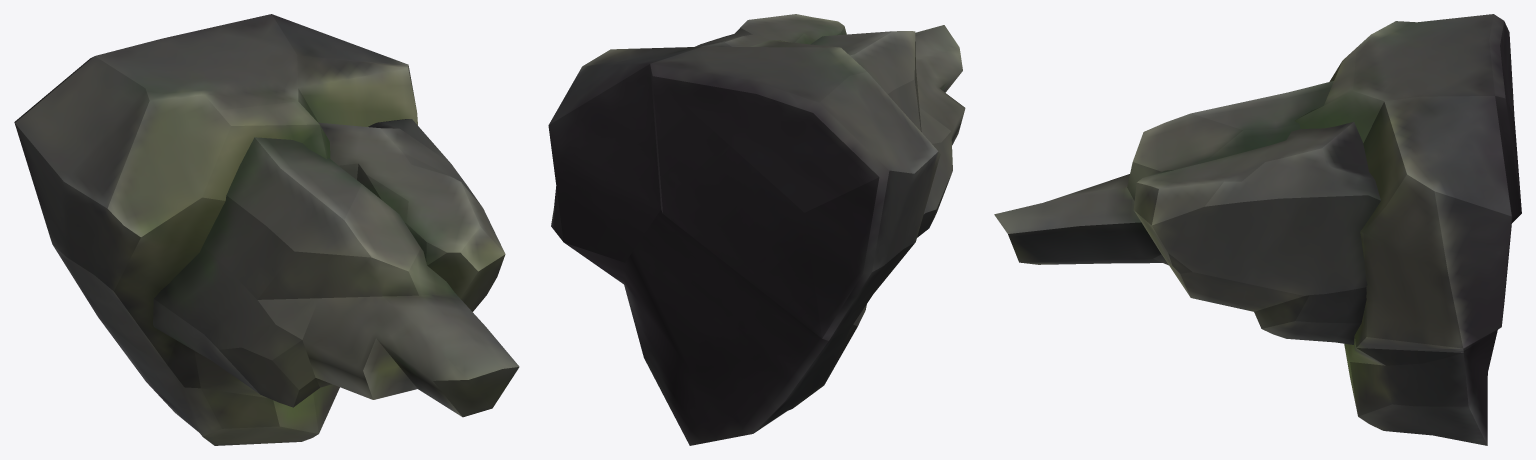
Rendered from Rock_5.glb.
3 views of the same model, side by side, from view 1: azimuth 30°, elevation 25°; view 2: azimuth 150°, elevation 25°; view 3: azimuth 270°, elevation 25° (orthographic). The views are drawn at different scales.
Parts seen in each view (by area): view 1: Rock_5; view 2: Rock_5; view 3: Rock_5.
Boxes of the visible parts, x1,y1,x2,y2 form: Rock_5: (14, 14, 519, 445); Rock_5: (548, 14, 965, 445); Rock_5: (994, 14, 1521, 445).
Size of the model in its own units: 1.29 by 1.32 by 1.69.
Materials: 1 (1 with a texture image).
